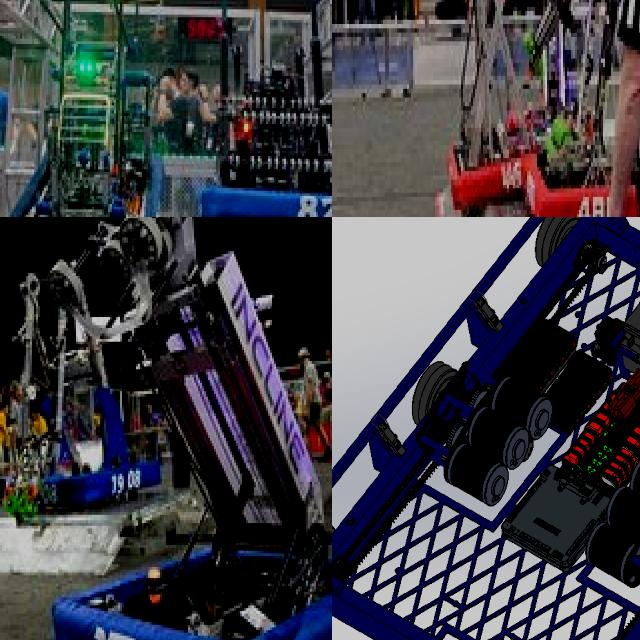FRC-Robots: (332, 217, 640, 640), (39, 217, 332, 640), (7, 0, 173, 217), (197, 0, 332, 217), (438, 0, 542, 210), (550, 0, 640, 217)
